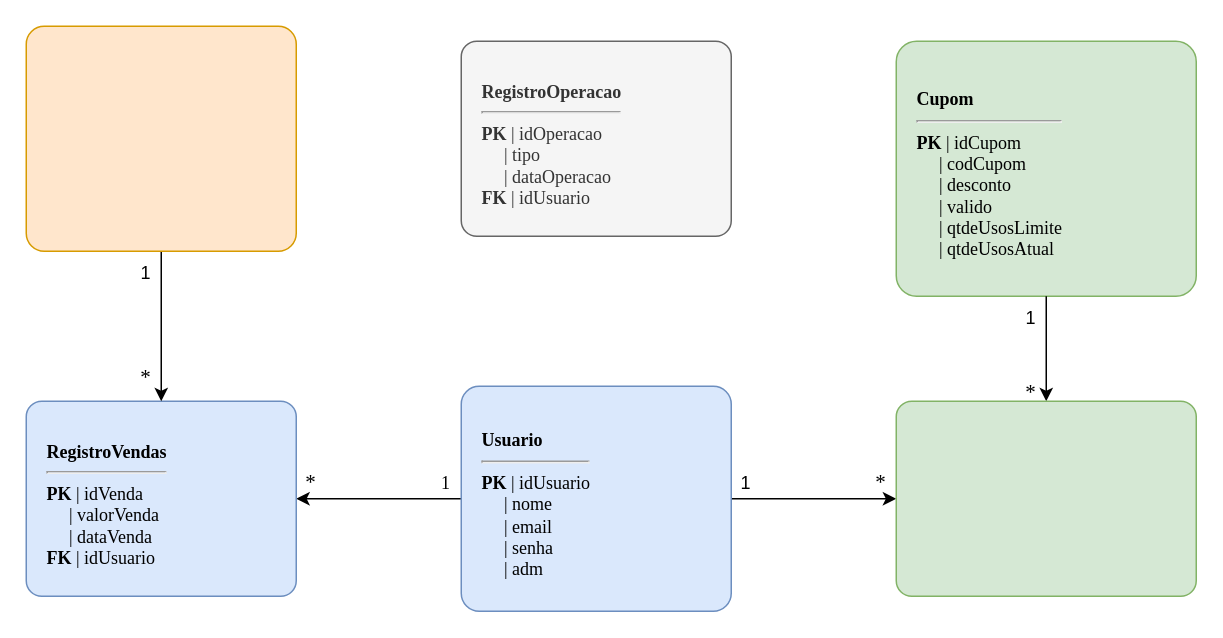
Image size: 1223x638. Some labels were removed from this diagram. The shapes that lost their labels are listed below. From the top down, each one's centre as x and y in pixels, then its label:
At pixel 160 138: "Livro PK | idLivro | nome | categoria | preco | codigo".
At pixel 1045 498: "UsoCupom PK | idUso | idUsuario FK | idCupom FK | idVenda".
